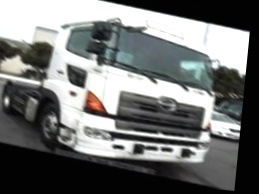car: (206, 110, 242, 144)
